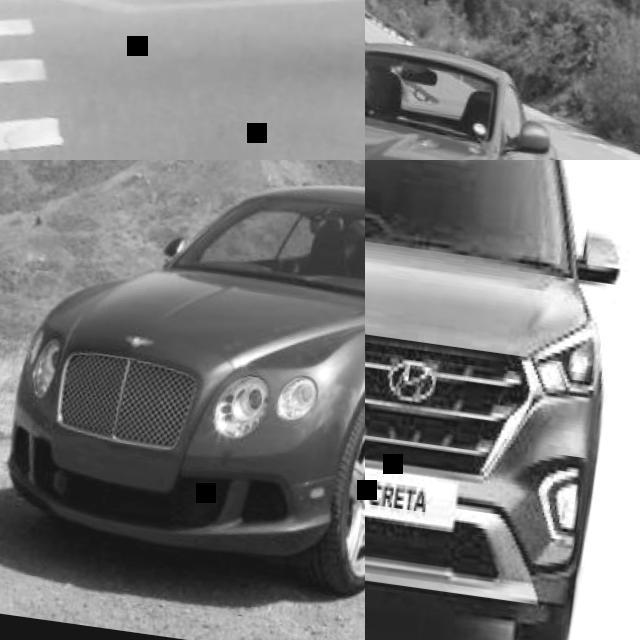car: (13, 186, 366, 590), (362, 164, 638, 620), (360, 35, 545, 154)
